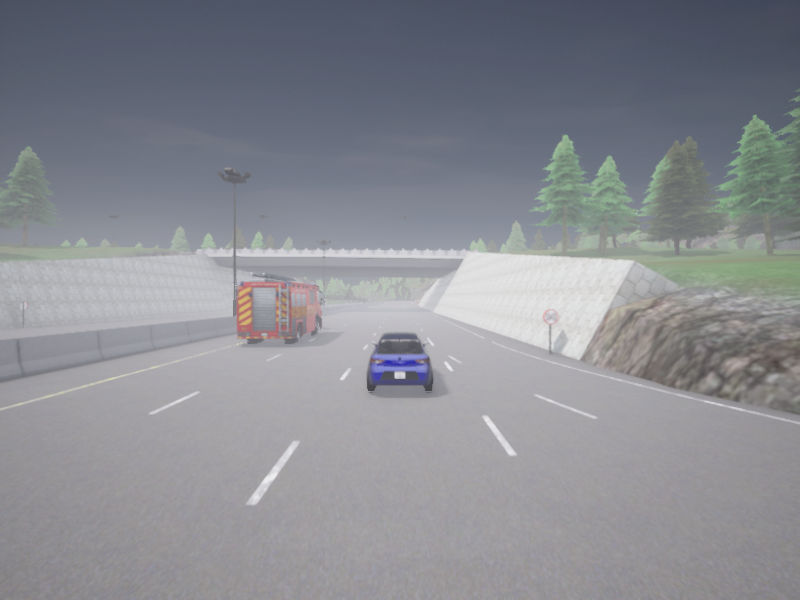vehicle: (237, 273, 324, 342), (366, 332, 433, 391)
